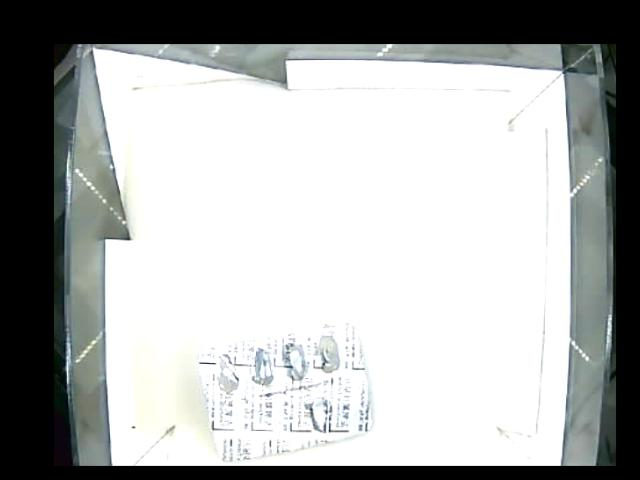Medicine: (199, 324, 373, 462)
